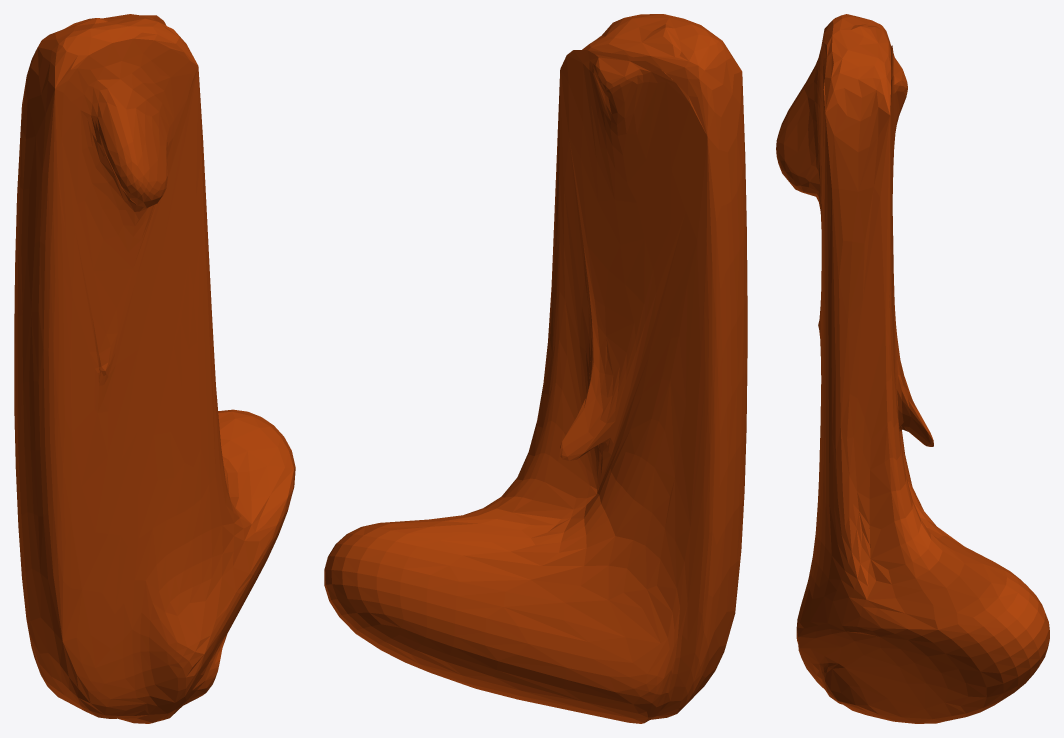
The picture shows the model from 3 angles, left to right: view 1: azimuth 30°, elevation 25°; view 2: azimuth 150°, elevation 25°; view 3: azimuth 270°, elevation 25°; orthographic projection. The views are drawn at different scales.
Visible parts, largest first — view 1: 305_Cube.1248; view 2: 305_Cube.1248; view 3: 305_Cube.1248.
Part boxes in pixels (x1,y1,x2,y2): 305_Cube.1248: (14,14,295,723); 305_Cube.1248: (324,14,747,723); 305_Cube.1248: (776,14,1049,723).
Size of the model in its own units: 6.04 by 12.28 by 4.64.
